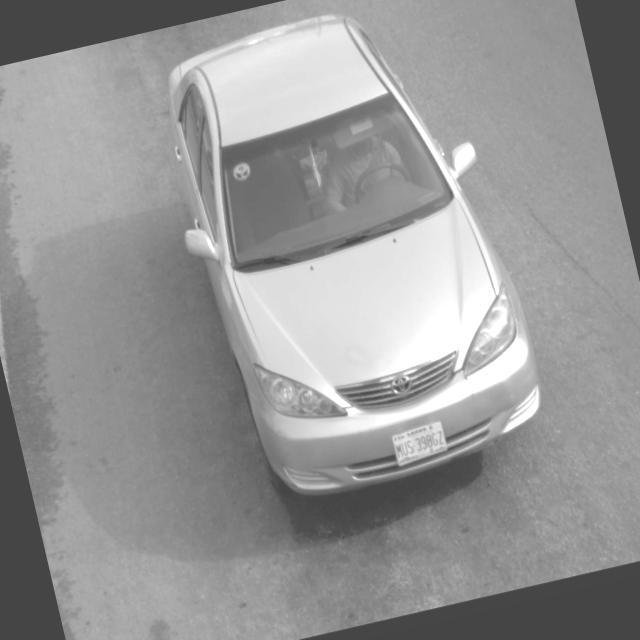windshield: (212, 88, 468, 278)
